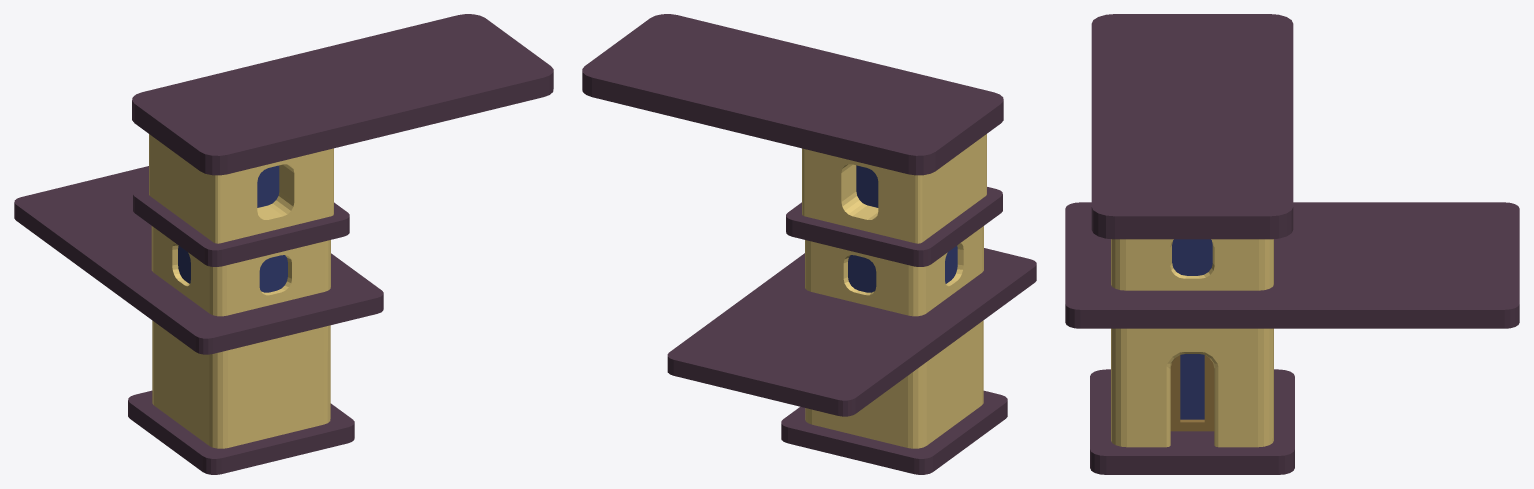
File: RMMBuilding.fbx
3 views of the same model, side by side, from view 1: azimuth 30°, elevation 25°; view 2: azimuth 150°, elevation 25°; view 3: azimuth 270°, elevation 25° (orthographic). The views are drawn at different scales.
Visible parts, largest first — view 1: RMMBuilding; view 2: RMMBuilding; view 3: RMMBuilding.
Part boxes in pixels (x1,y1,x2,y2): RMMBuilding: (14, 14, 553, 474); RMMBuilding: (582, 14, 1036, 474); RMMBuilding: (1065, 14, 1519, 474).
Size of the model in its own units: 10.43 by 8.54 by 9.38.
